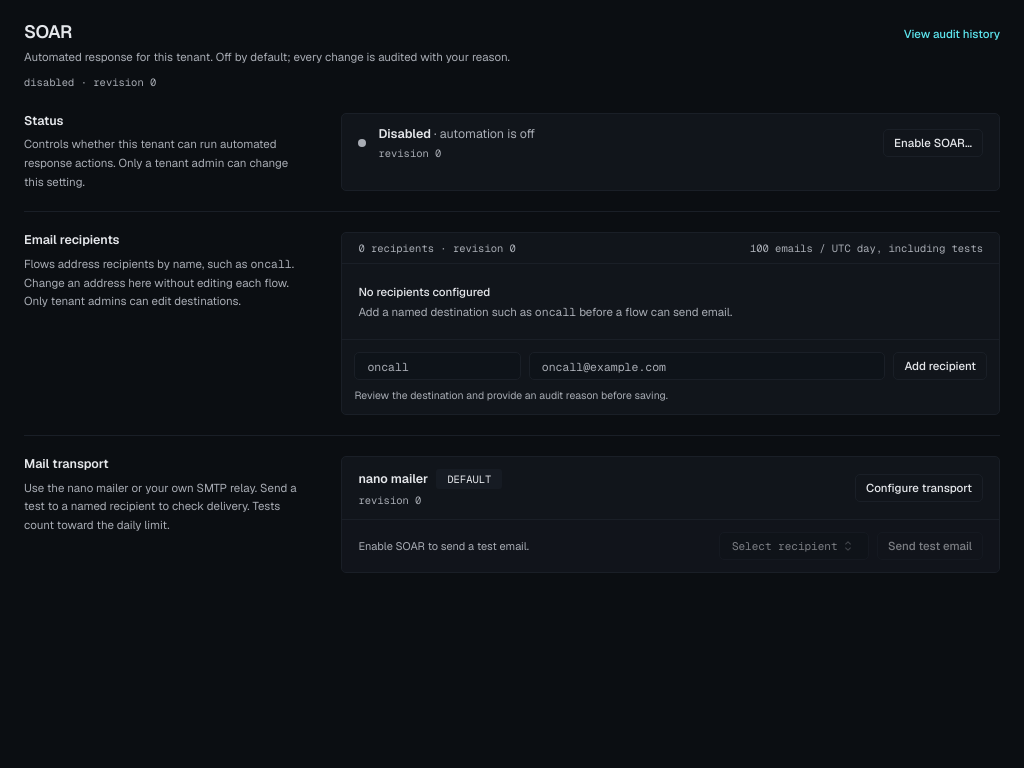
Test case: 503 lock wait and 403 show retry and admin-only messages
Click the button "Enable SOAR…": (933, 143) [883, 129, 983, 157]
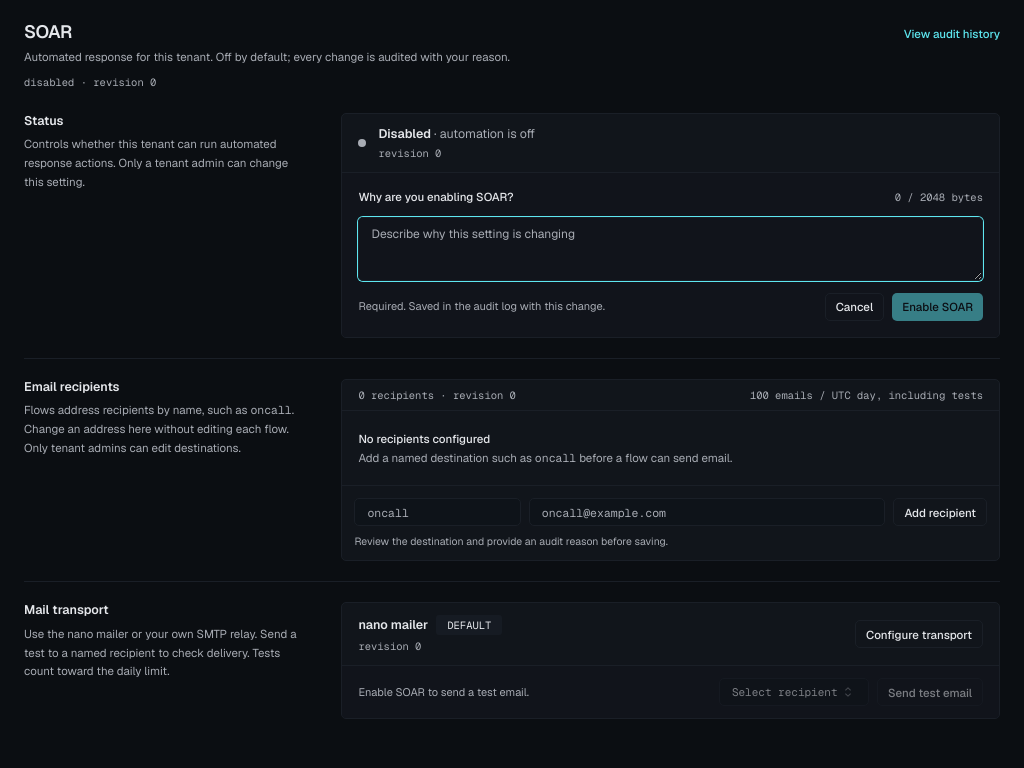
In the text box named "Reason": (671, 249) [358, 217, 983, 281], type "Enable"
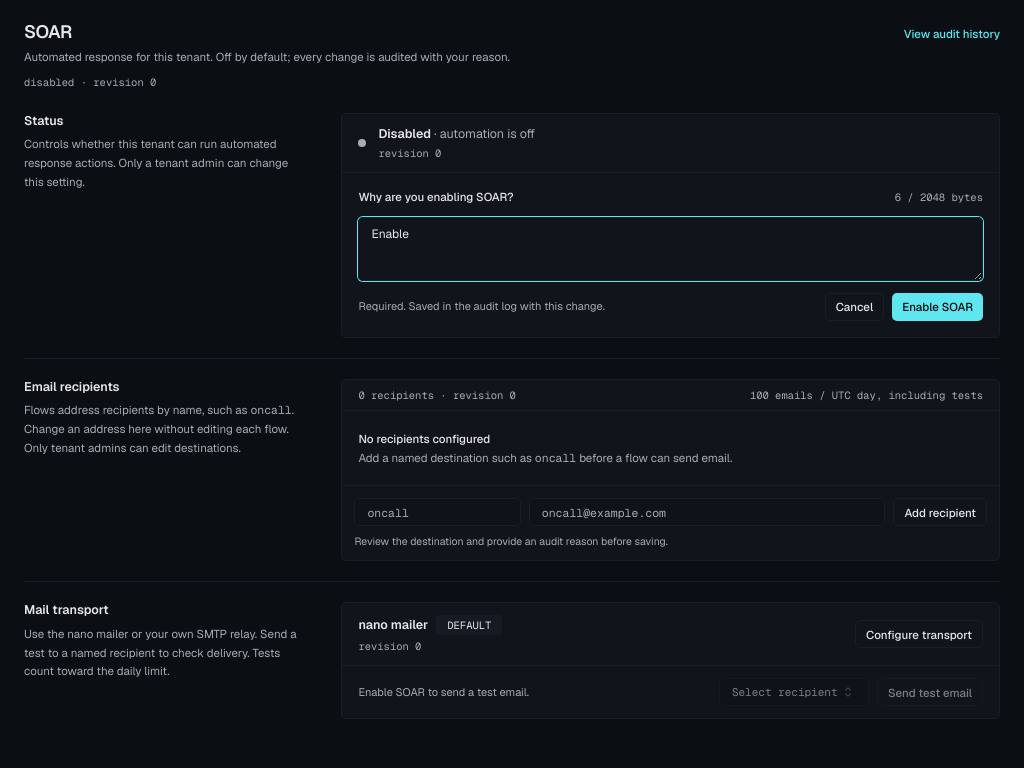
Check: the button "Enable SOAR" is enabled
Click the button "Enable SOAR": (938, 307) [892, 293, 983, 321]
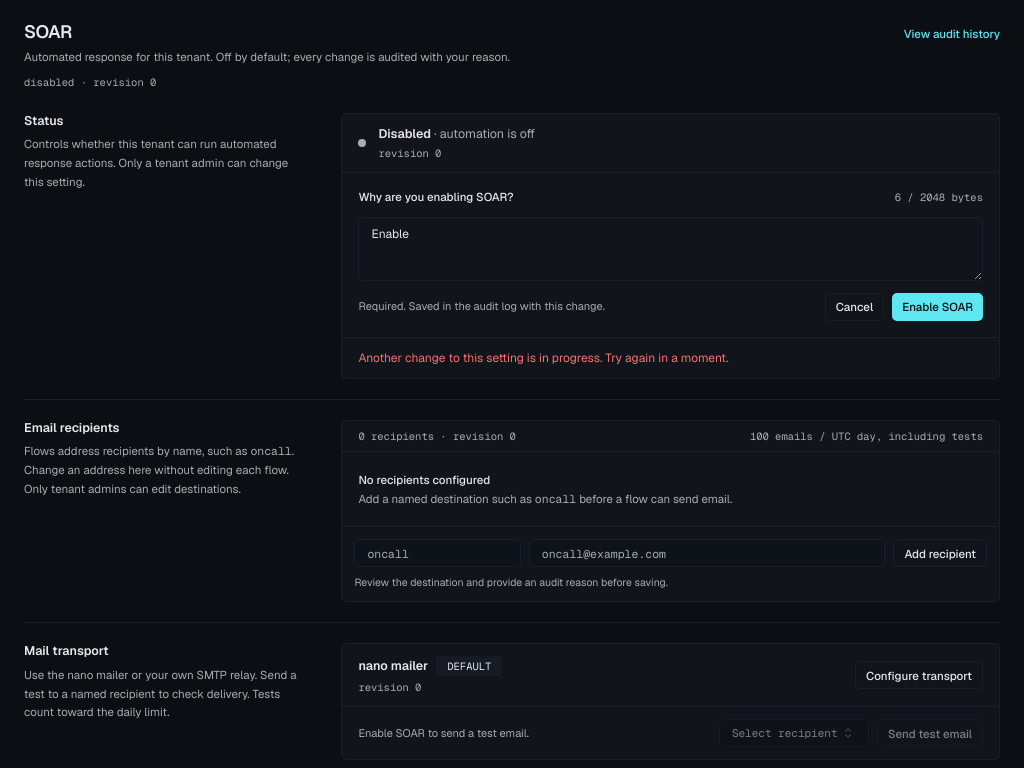
Check: the button "Enable SOAR" is enabled
Check: the message shows "in progress. Try again", box [358, 350, 729, 366]
Click the button "Enable SOAR": (938, 307) [892, 293, 983, 321]
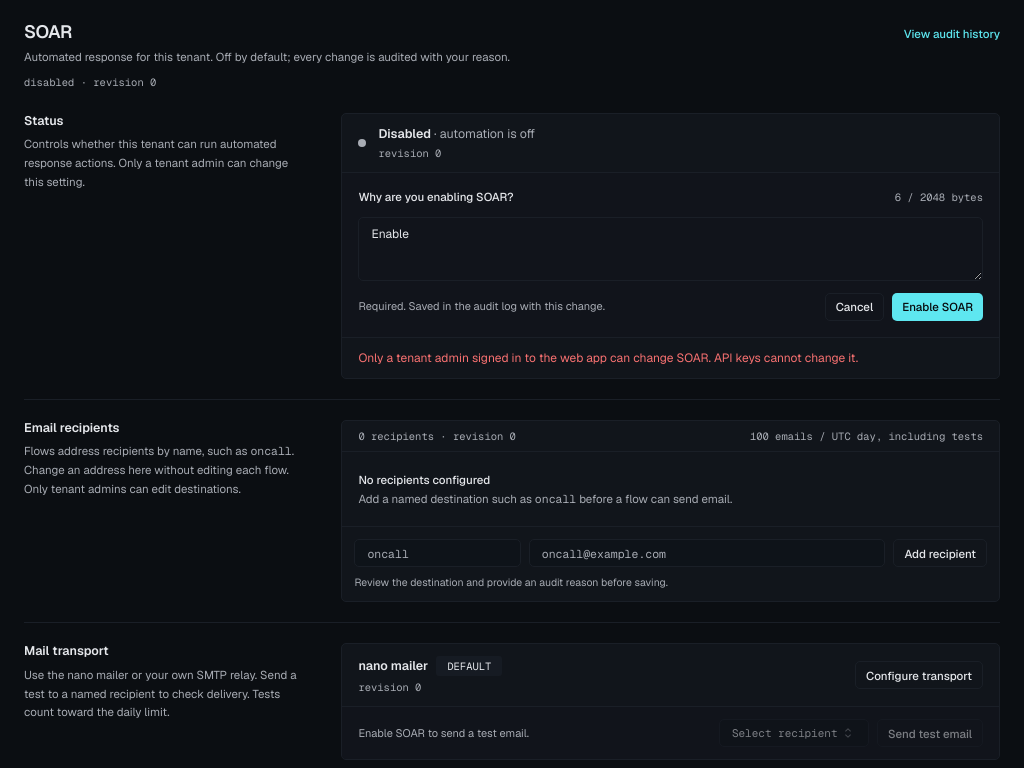
Check: the message shows "Only a tenant admin", box [358, 350, 858, 366]
